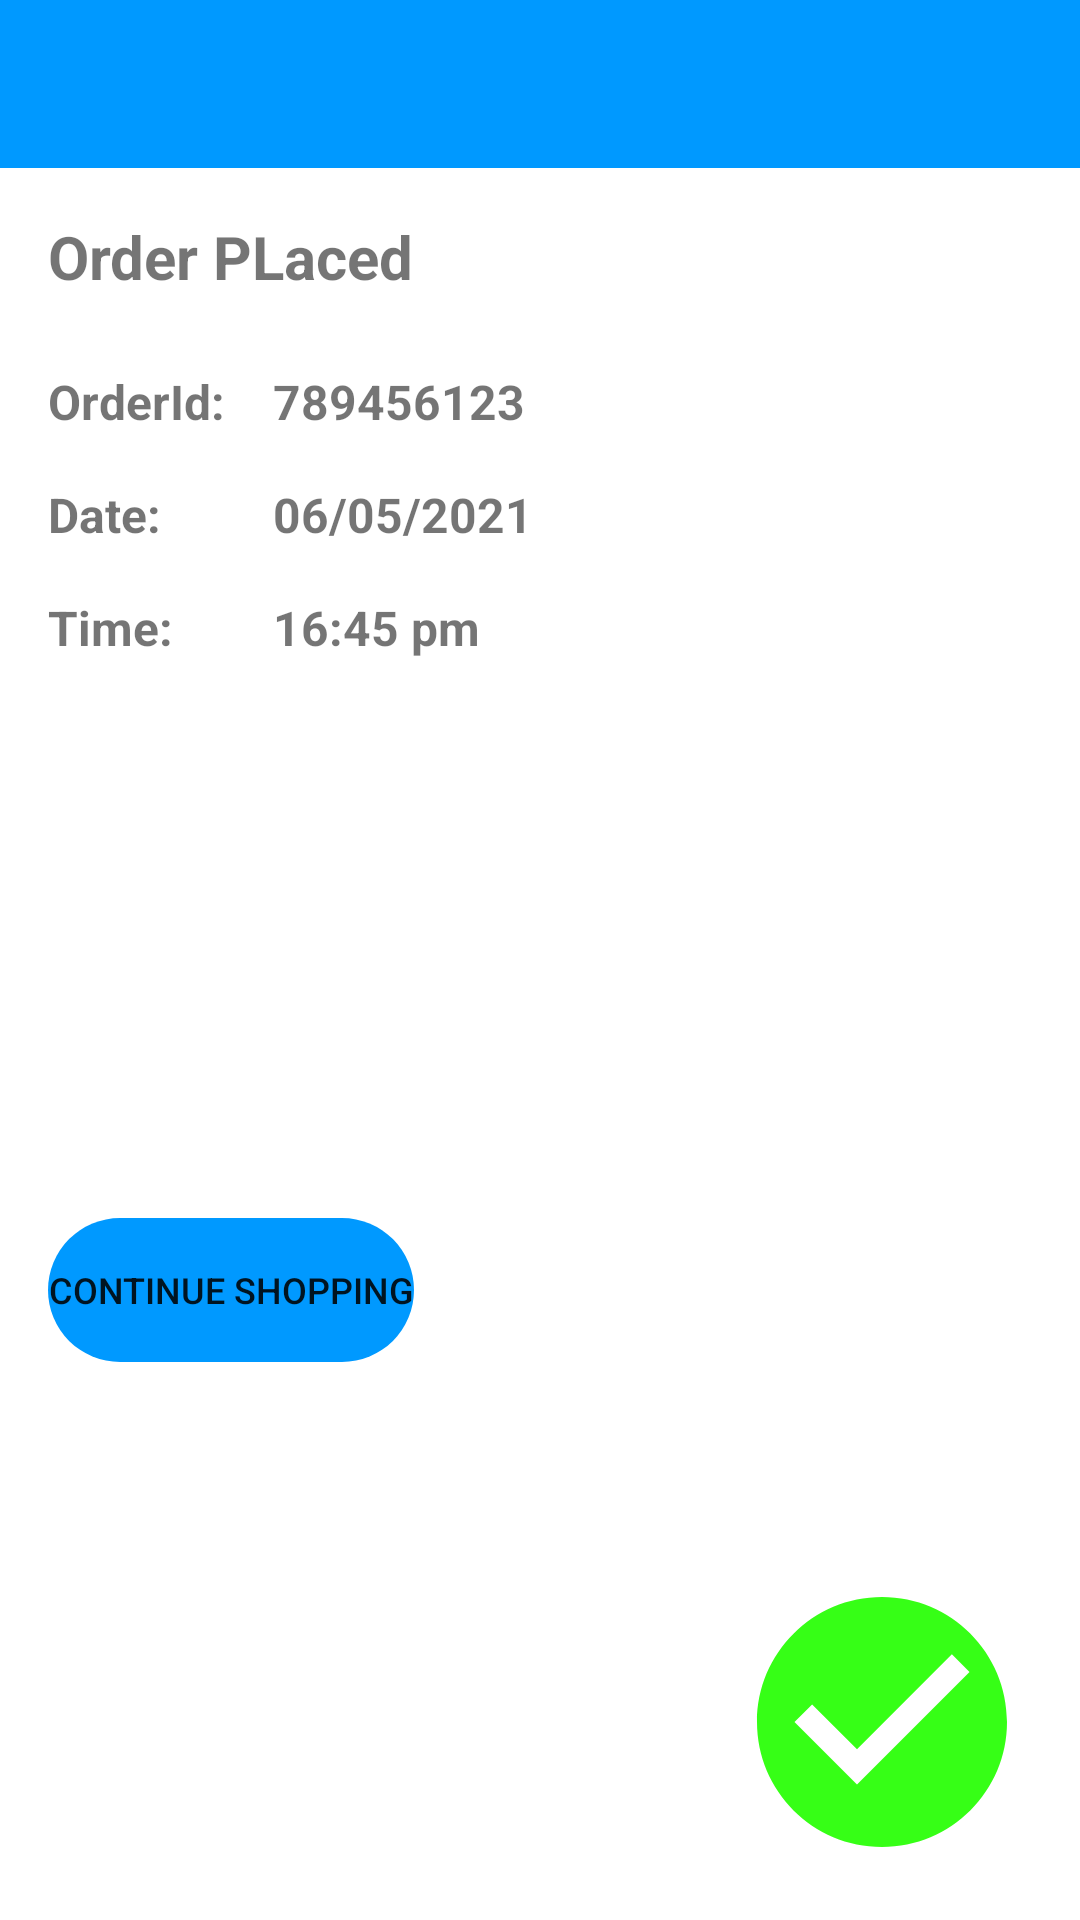

Named icons in this screenshot (1080*1920) and their bounding boxes, (x1, y1, x2, y2):
check circle: (757, 1597, 1007, 1847)
